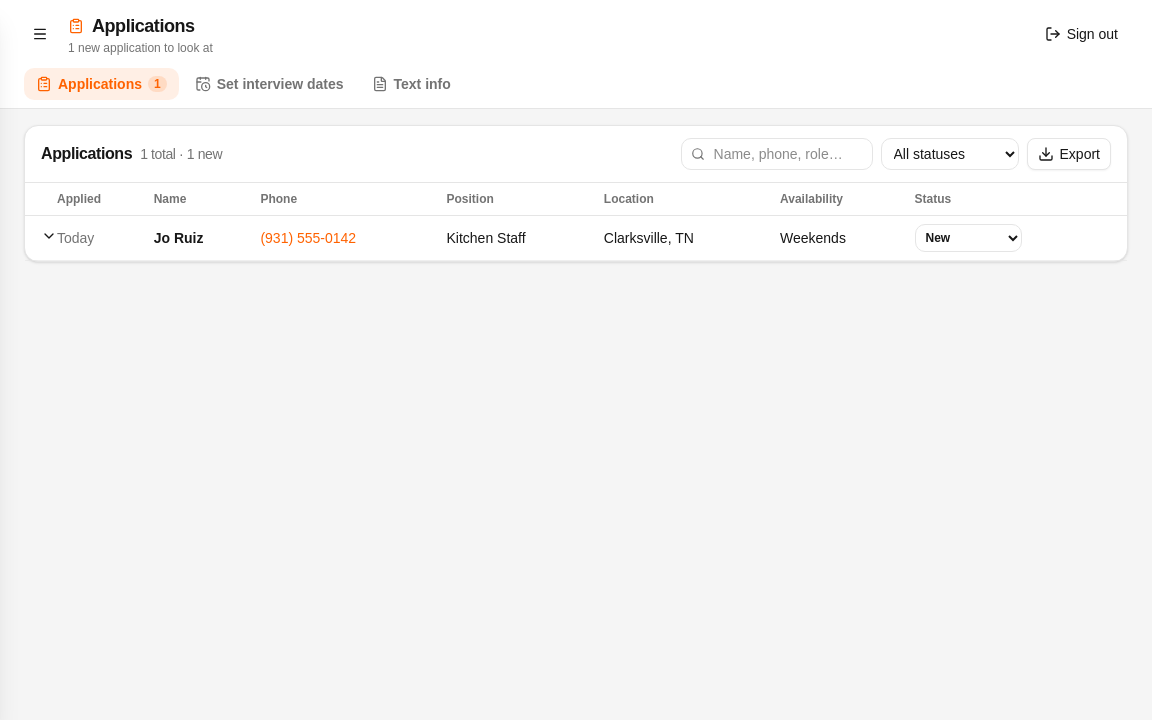
Test: the interviews section › won't save an interview with nobody's name on it
The width and height of the screenshot is (1152, 720).
What coordinates should you click on to do the following:
click the button "Set interview dates"
I would click on:
 (269, 84)
Its box is [183,68,356,100].
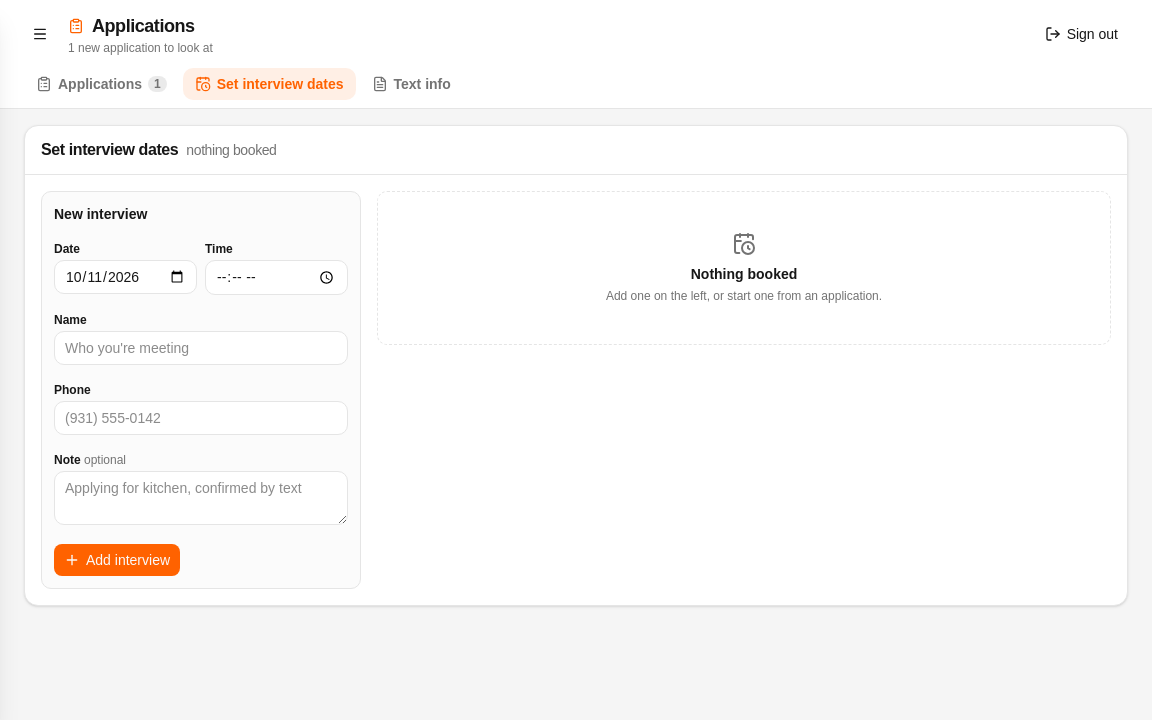
What coordinates should you click on to do the following:
click the button "Add interview"
I would click on:
 (117, 560)
Its box is [54,544,180,576].
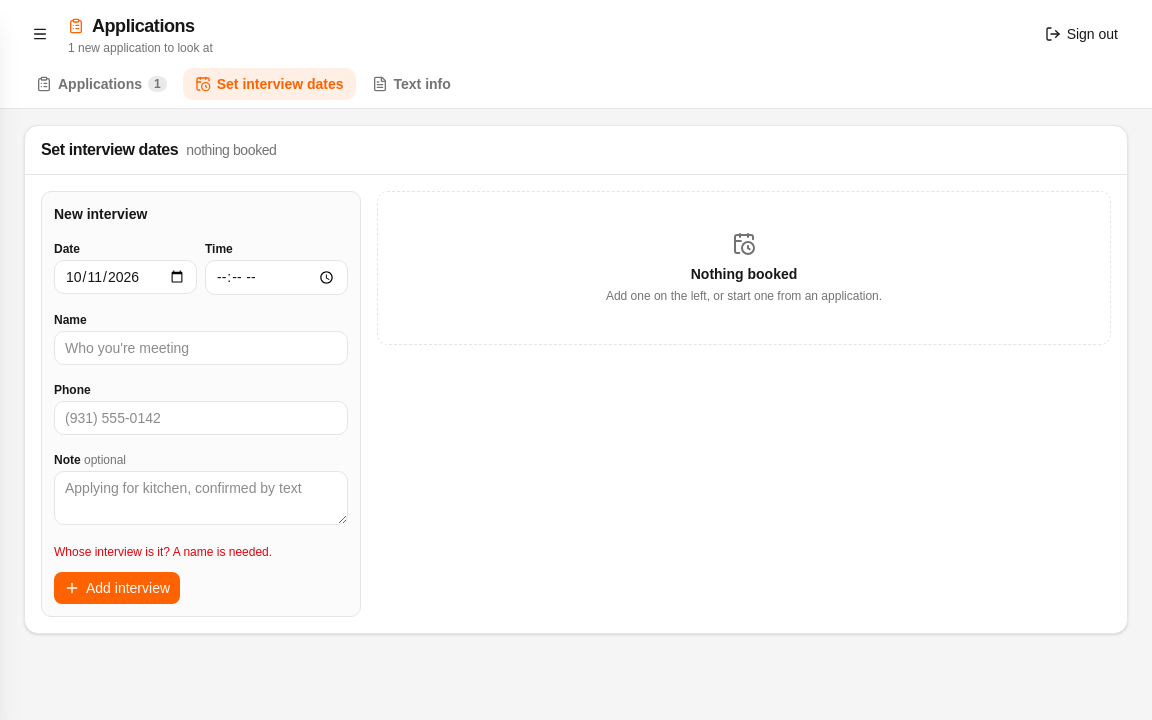
Expected: the message shows "A name is needed", [54,545,272,559]
